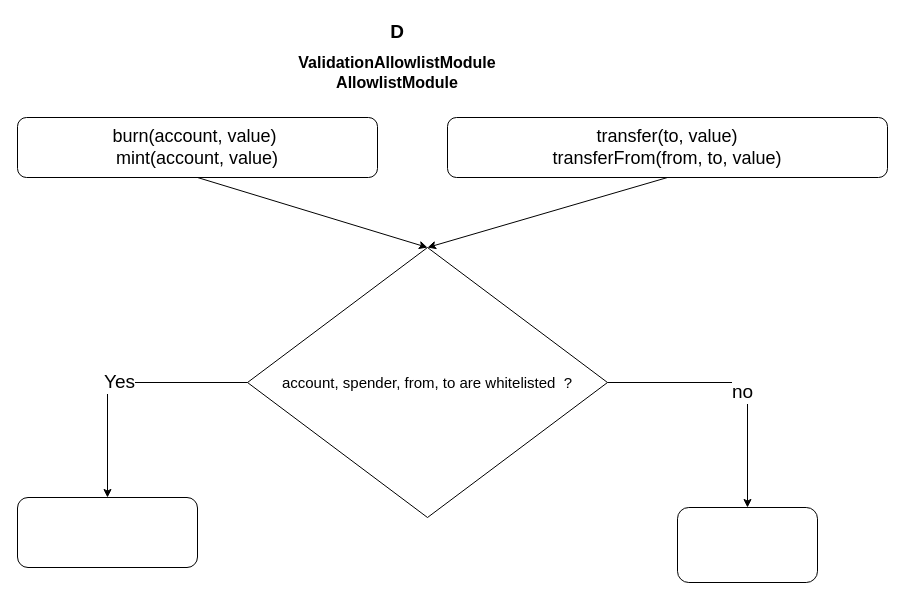
This 905x600 diagram has some shape labels left out. Each missing label, with the box of its shape:
Error Invalid Transfer: (676, 506, 818, 582)
See A & B: (16, 496, 198, 568)
